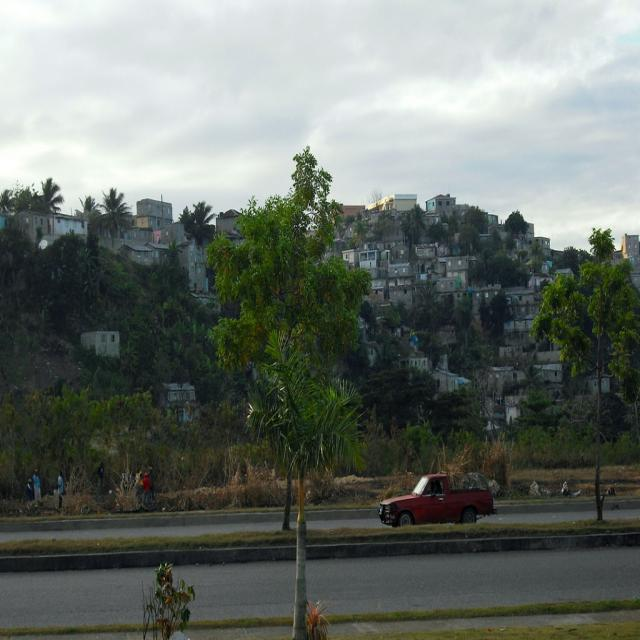car: (381, 474, 500, 539)
